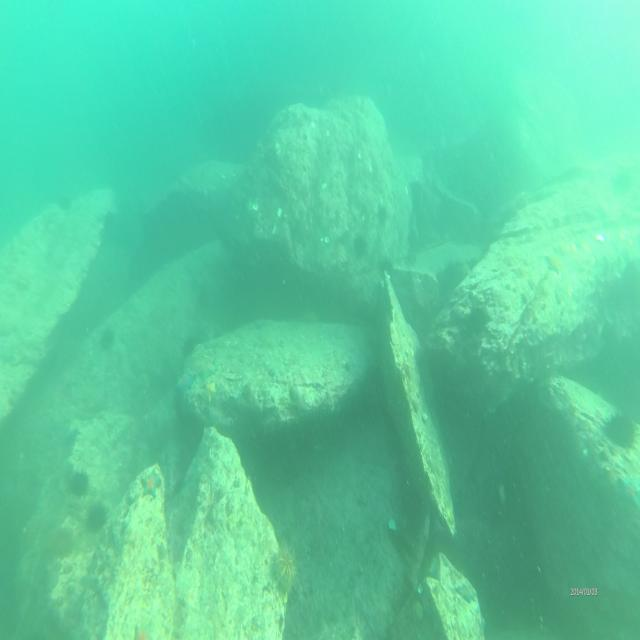echinus: (269, 541, 299, 593), (601, 408, 637, 449), (83, 502, 107, 530), (69, 467, 89, 497), (352, 228, 368, 260), (103, 325, 115, 351)
starfish: (139, 466, 164, 499), (458, 578, 476, 602), (546, 250, 561, 273), (204, 380, 218, 404)
